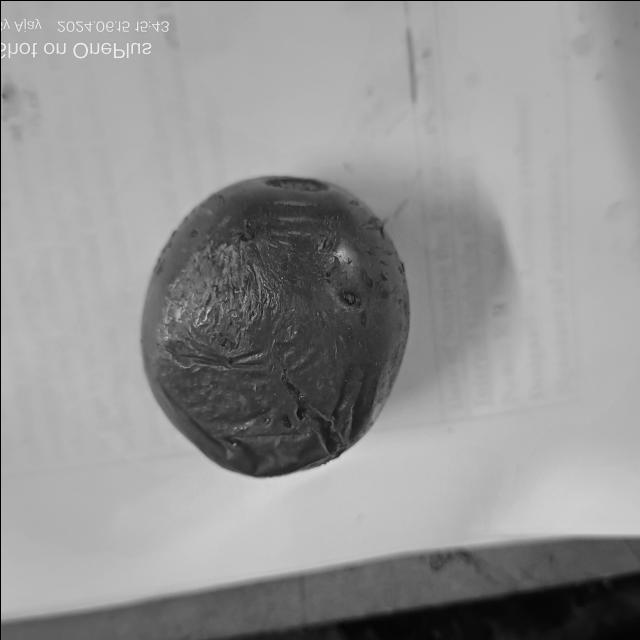Botrytis: (170, 236, 252, 365), (272, 382, 342, 460), (340, 284, 362, 310)
